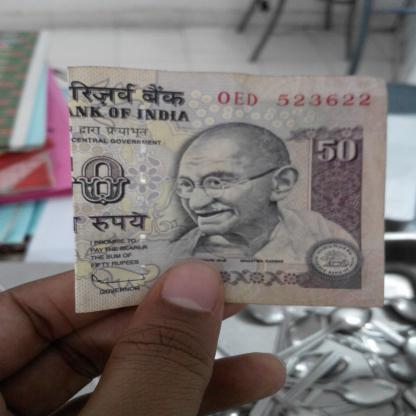Old50Front: (67, 66, 388, 314)
